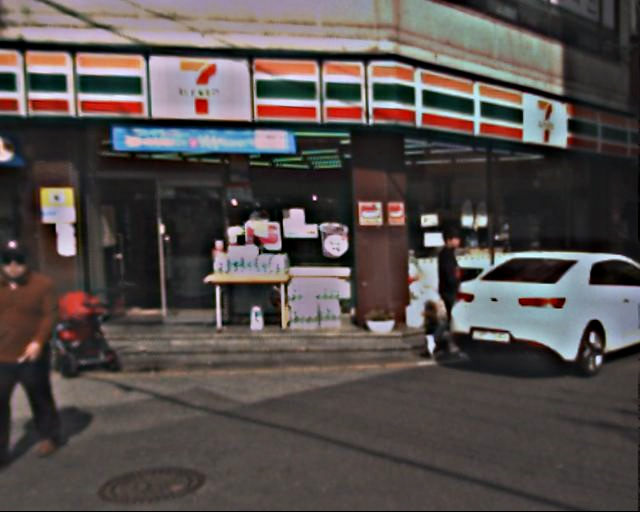person: (426, 229, 481, 354)
